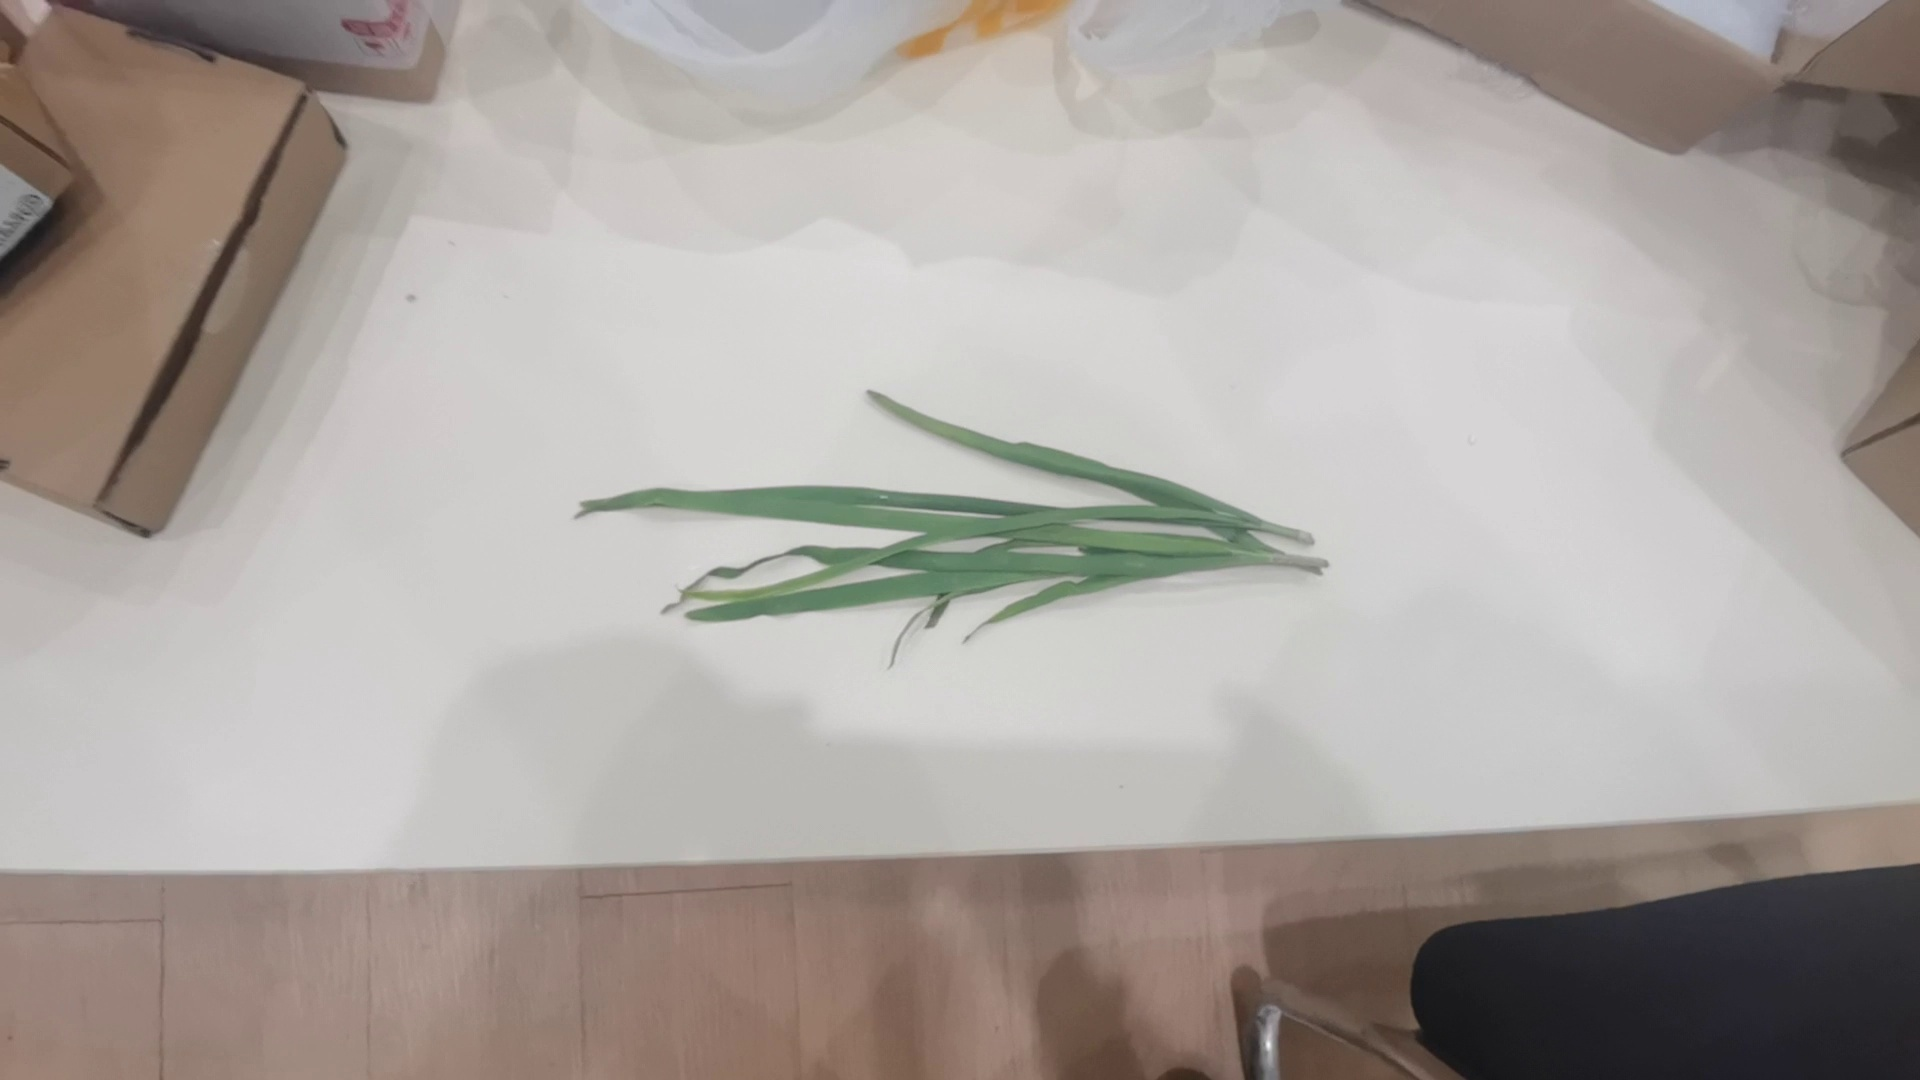chives: (566, 369, 1345, 694)
